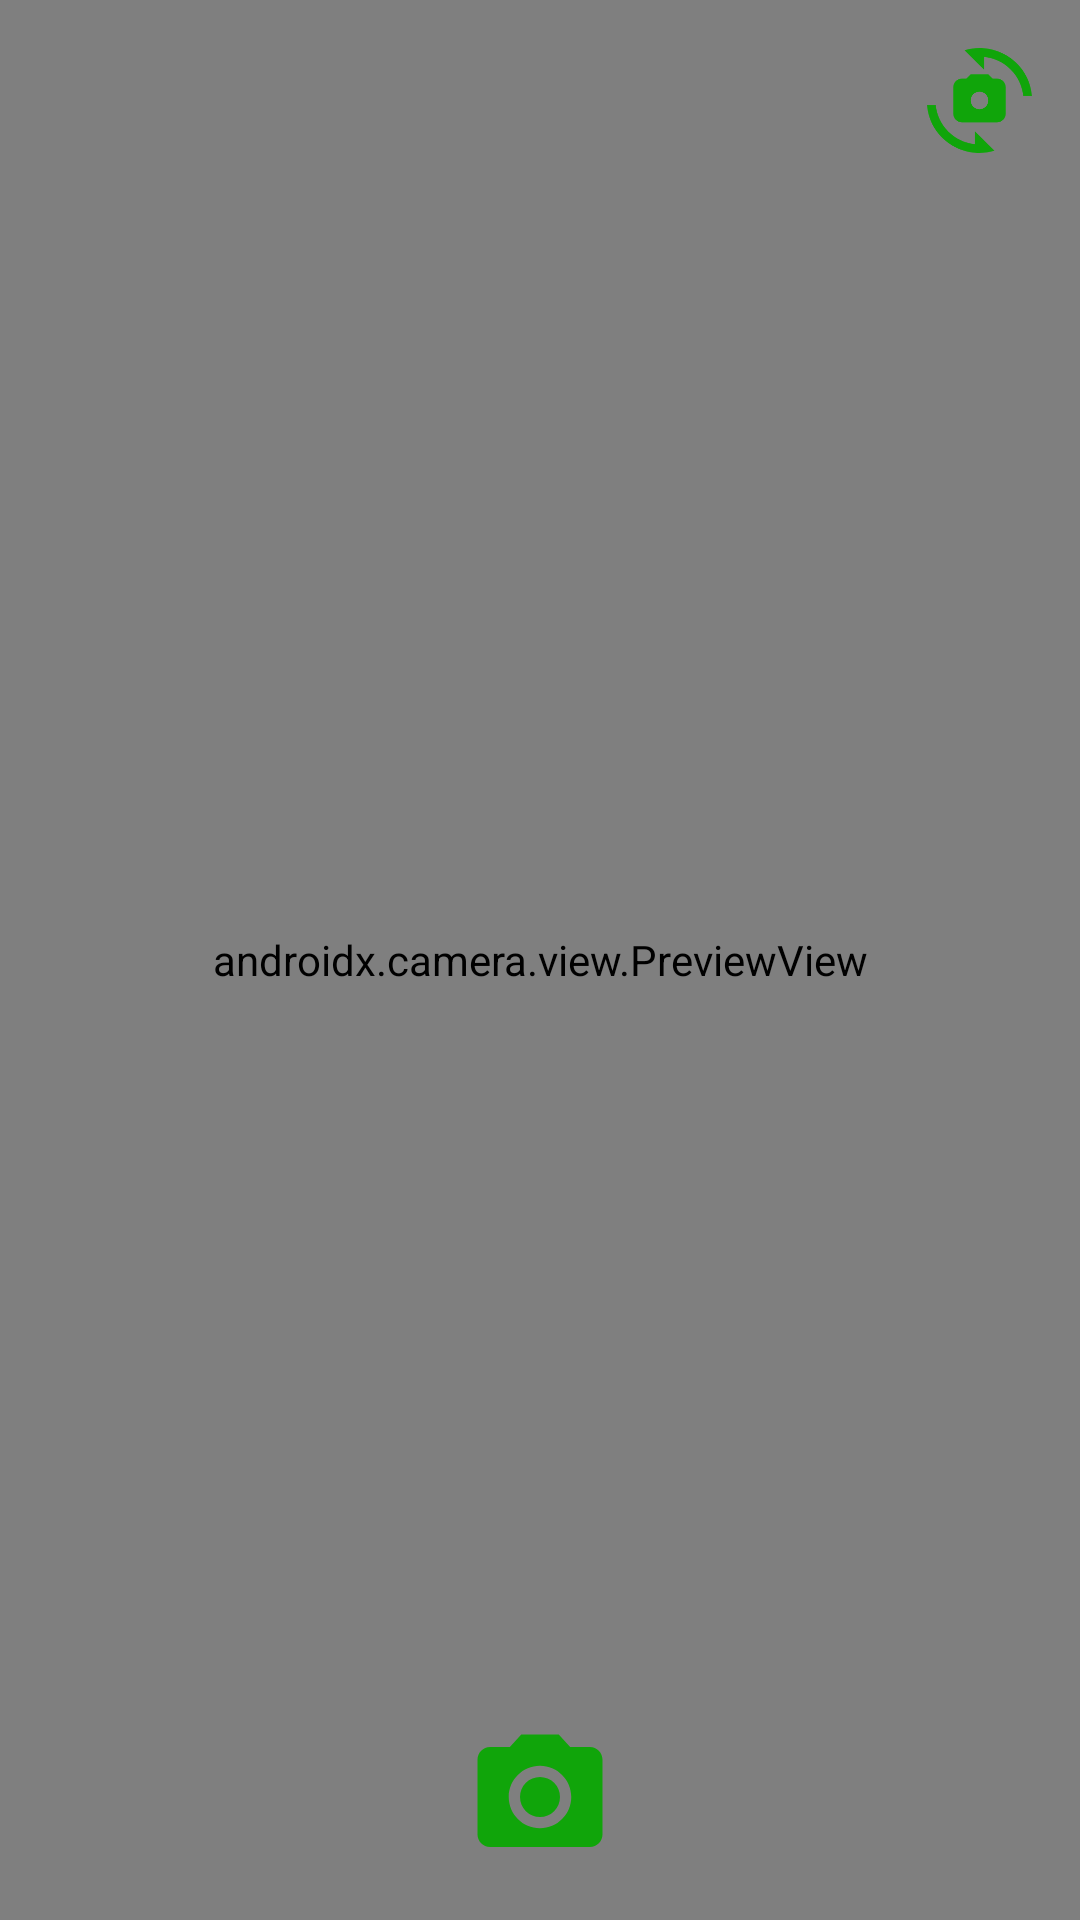

Icons on this 1080px×1920px Android screen, each with its box as (left=x1, top=y1, right=x2, bottom=y2):
capture: (left=477, top=1734, right=603, bottom=1847)
Rotate camera: (left=927, top=48, right=1032, bottom=153)
